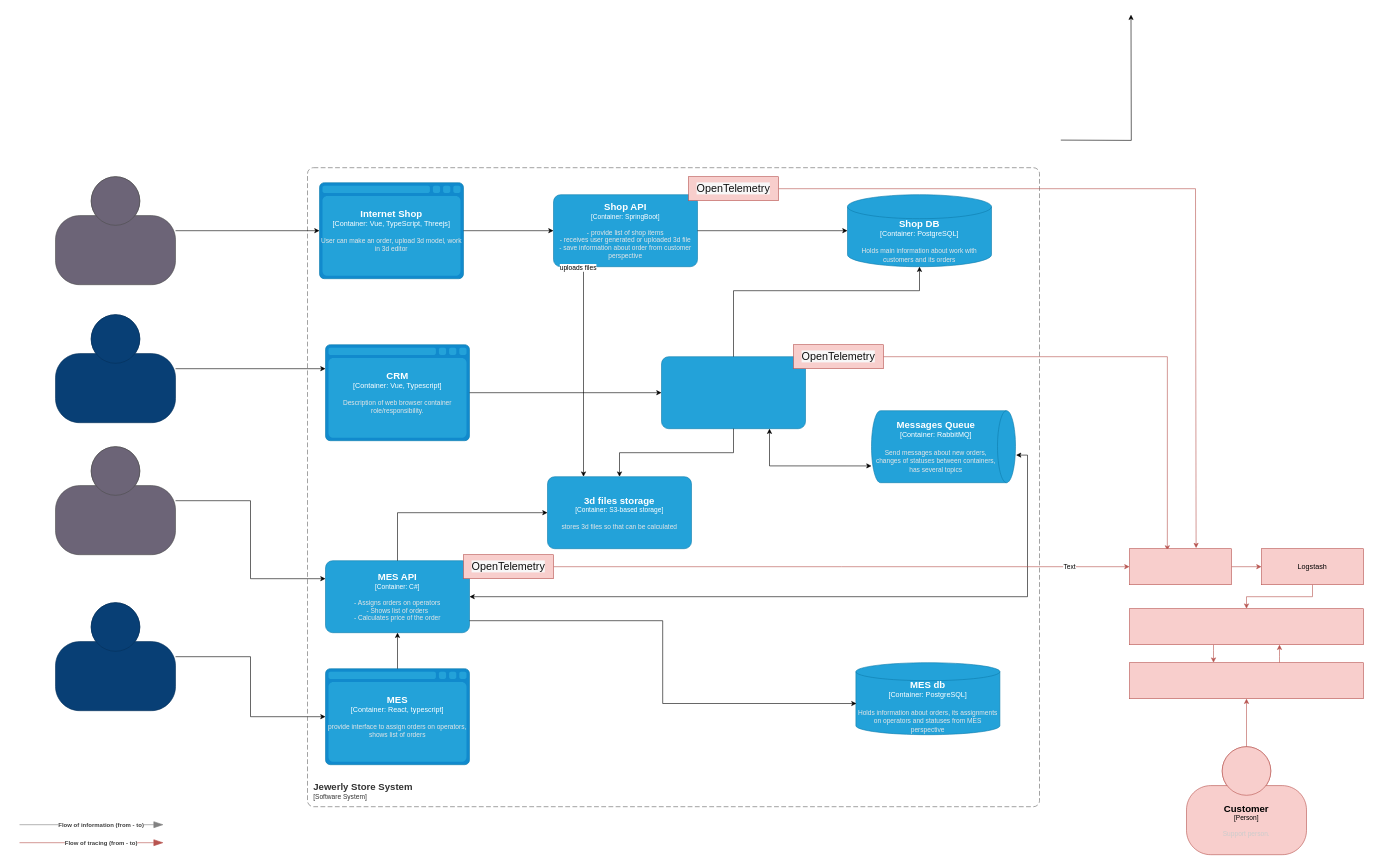
Some shapes in this 1374 by 865 pixel diagram are drawn without their labels. The centre of each missing label's shape, as x and y in pixels:
API user [Person] Description of external person.: the point at 115,500
CRM API [Container: SpringBoot] Description of container role/responsibility.: the point at 733,392
Customer [Person] Description of external person.: the point at 115,230
Elasticsearch: the point at 1246,626
Filebeat: the point at 1180,566
Kibana: the point at 1246,680
Operator [Person] Takes order in work, manufactures jewerly: the point at 115,656
Seller [Person] Operates with order, confirms manufacturing for the user: the point at 115,368
